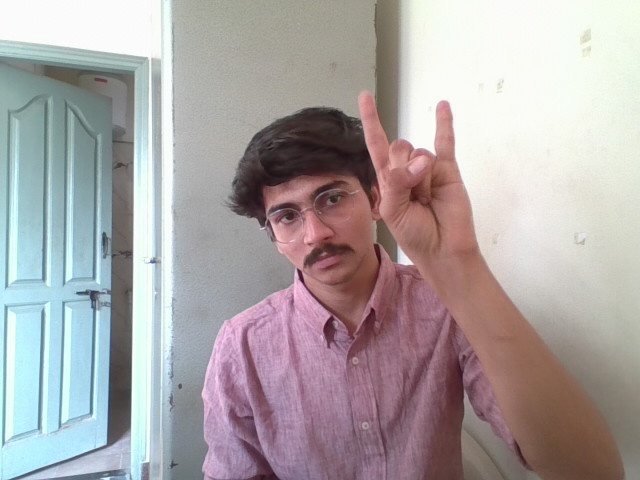iloveyou: (354, 83, 499, 262)
